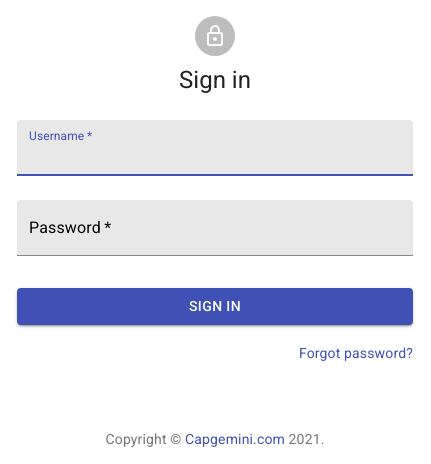
Test: signing in › Navigate to Forgotten Password
Step 1. Click the link "Forgot password?" → (356, 352), box [299,344,413,360]
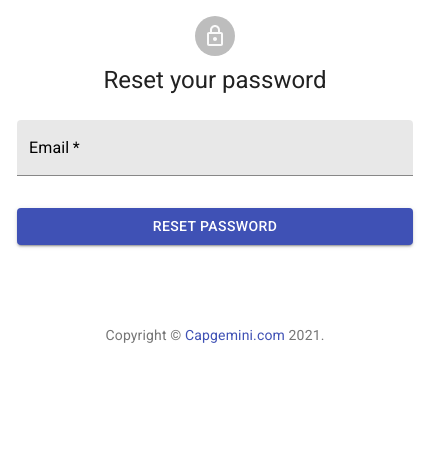
expect the heading "Reset your password" is shown: met, box [104,64,327,96]
